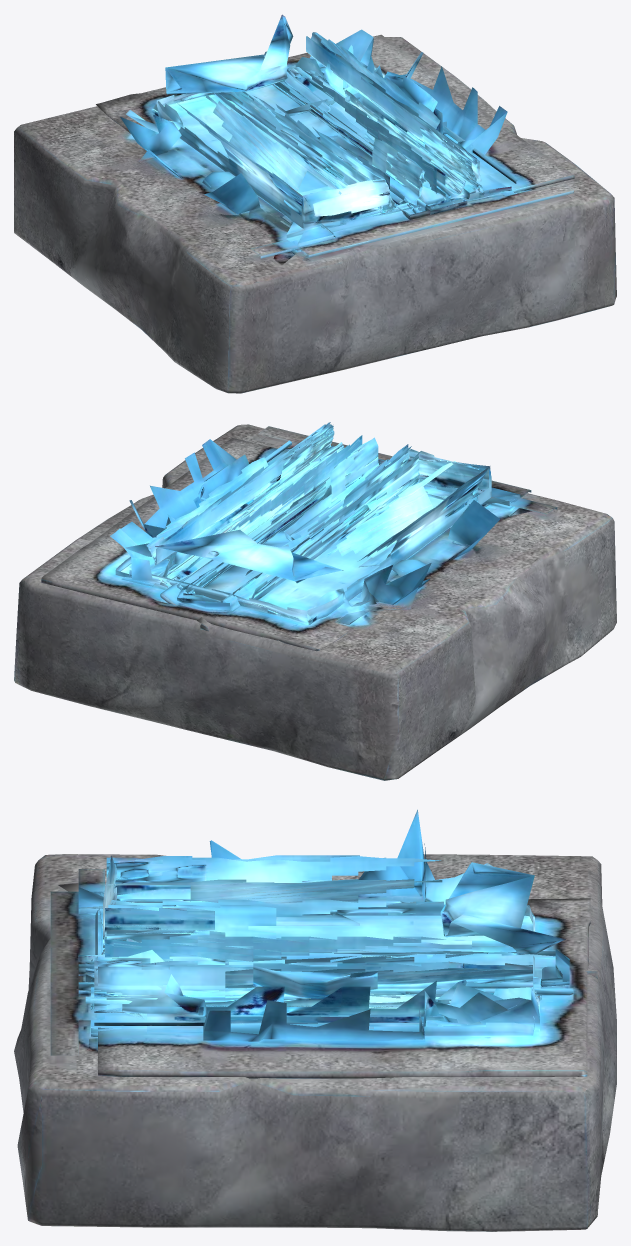
File: crystal.glb
3 renders of one model, top to bottom at view 1: azimuth 30°, elevation 25°; view 2: azimuth 150°, elevation 25°; view 3: azimuth 270°, elevation 25°, orthographic. The views are drawn at different scales.
Bounding box in the file's own units: 1.35 × 0.5166 × 1.35.
Materials: 1 (1 with a texture image).
